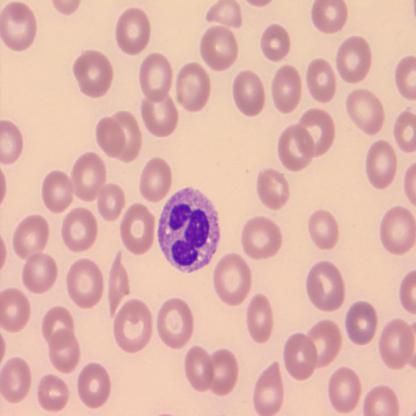Segmented neutrophil: (154, 184, 224, 278)
